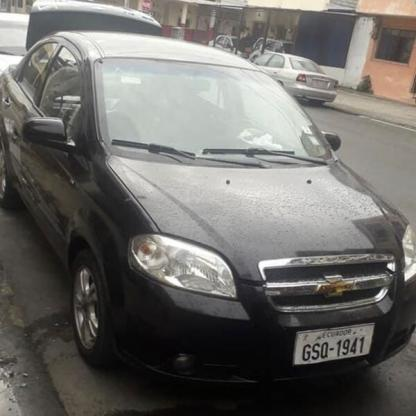Placa: (294, 315, 377, 371)
